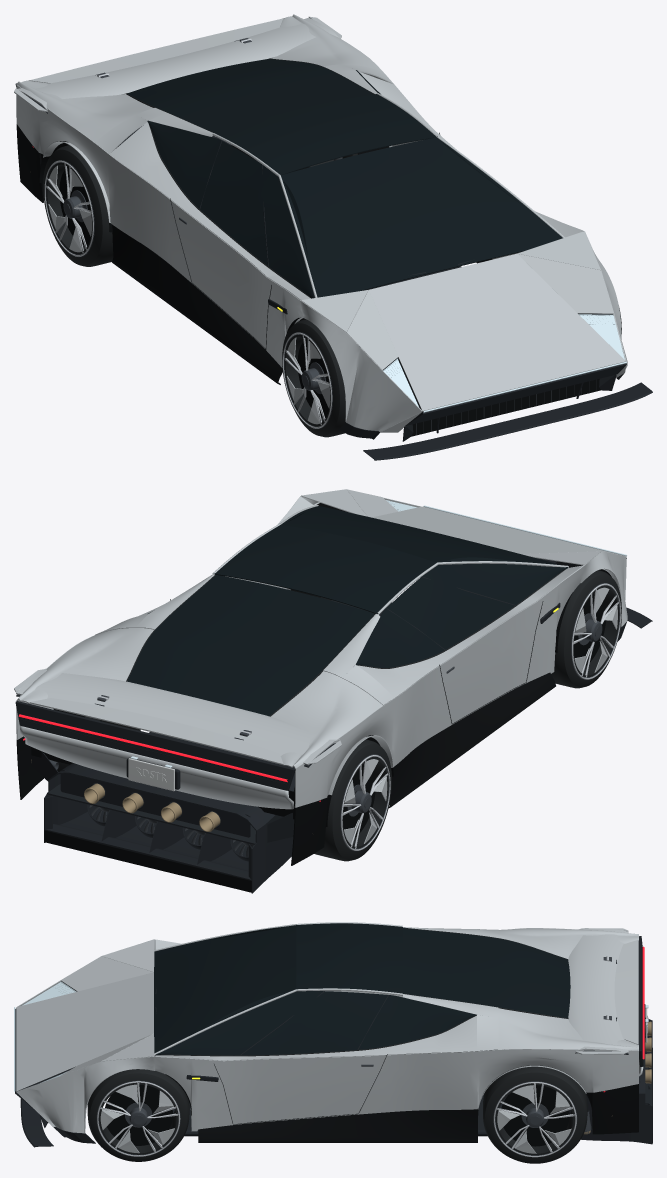
The model's file is Roadster-game.fbx.
The picture shows the model from 3 angles, top to bottom: view 1: azimuth 30°, elevation 25°; view 2: azimuth 150°, elevation 25°; view 3: azimuth 270°, elevation 25°; orthographic projection. The views are drawn at different scales.
Parts seen in each view (by area): view 1: Roadster_Body, Roadster_Wing, Roadster_Wheel_RR, Roadster_Wheel_FR; view 2: Roadster_Body, Roadster_Wing, Roadster_Wheel_RR, Roadster_Wheel_FR; view 3: Roadster_Body, Roadster_Wheel_RL, Roadster_Wheel_FL, Roadster_Wing.
Boxes of the visible parts, left/top/right/bottom form: Roadster_Body: left=15, top=14, right=652, bottom=460; Roadster_Wing: left=14, top=16, right=341, bottom=113; Roadster_Wheel_RR: left=43, top=145, right=113, bottom=266; Roadster_Wheel_FR: left=282, top=319, right=345, bottom=437; Roadster_Body: left=15, top=489, right=652, bottom=893; Roadster_Wing: left=14, top=668, right=341, bottom=767; Roadster_Wheel_RR: left=314, top=739, right=391, bottom=861; Roadster_Wheel_FR: left=551, top=570, right=621, bottom=688; Roadster_Body: left=14, top=922, right=652, bottom=1147; Roadster_Wheel_RL: left=483, top=1065, right=587, bottom=1163; Roadster_Wheel_FL: left=87, top=1069, right=189, bottom=1161; Roadster_Wing: left=568, top=928, right=628, bottom=1054.
Size of what is drawn, in the model's own units: 2.09 by 1.19 by 4.5.
